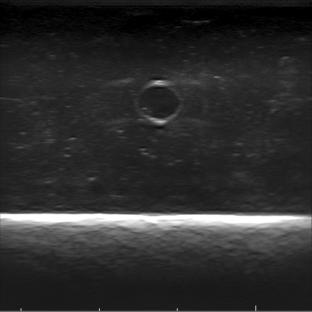vessel: (134, 79, 182, 125)
